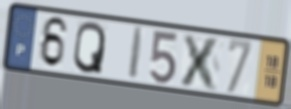5: (147, 27, 181, 86)
6: (37, 15, 69, 70)
7: (225, 37, 257, 97)
I: (126, 25, 147, 82)
Q: (71, 20, 108, 76)
X: (177, 31, 224, 93)
